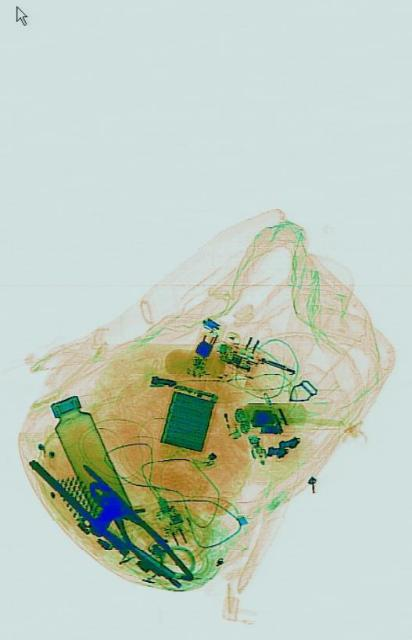Pliers: (80, 466, 193, 604)
